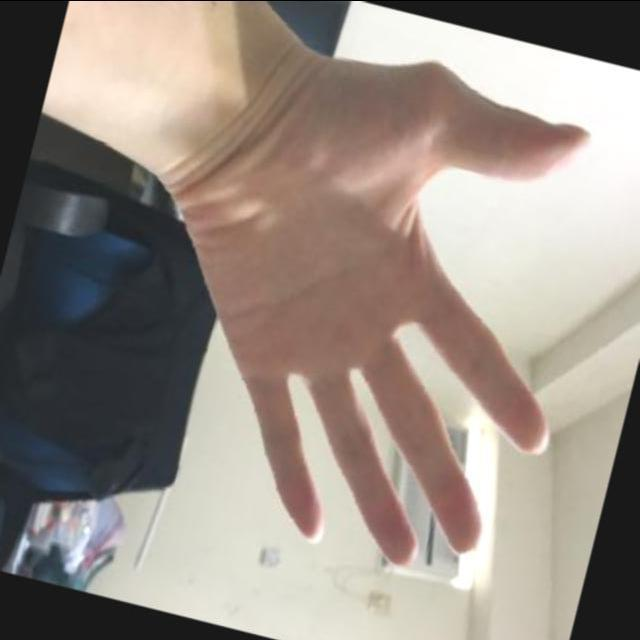hand: (54, 0, 640, 618)
